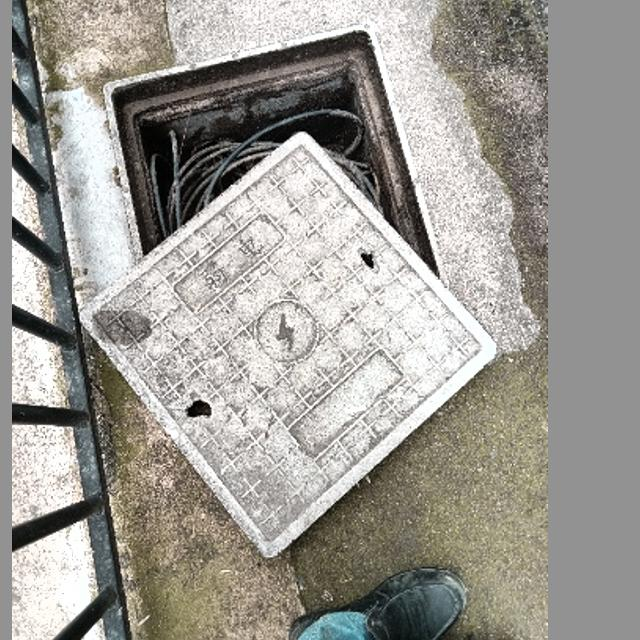uncovered: (78, 30, 497, 555)
